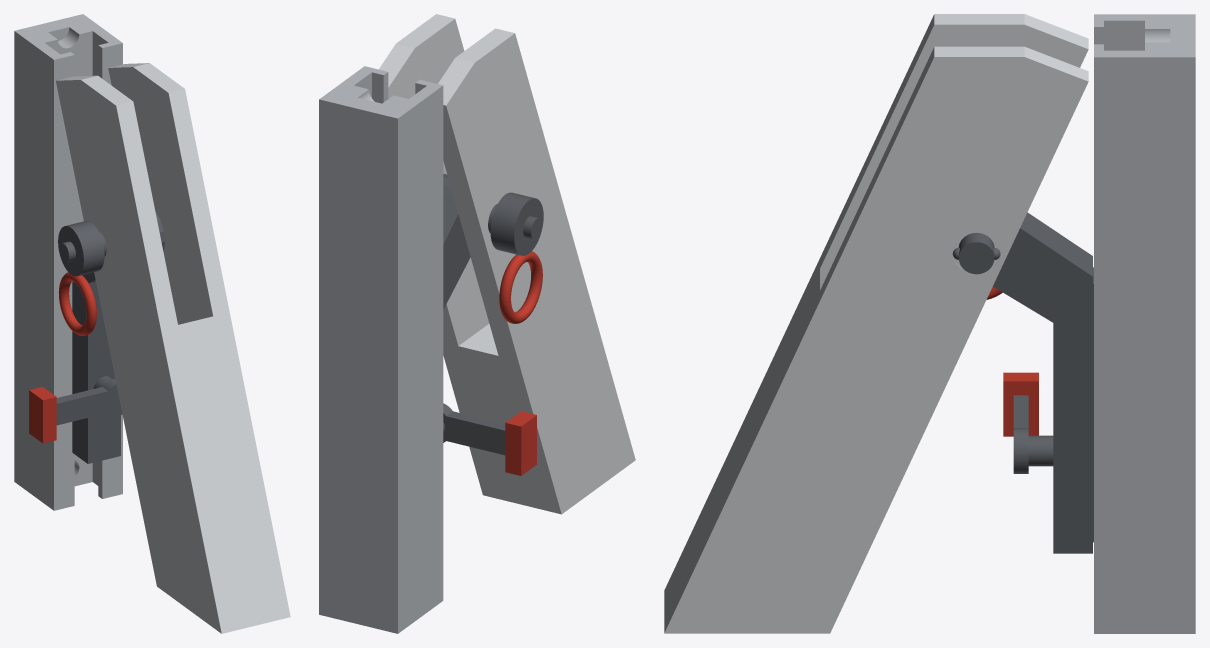
The model's file is b_detail_shelf.glb.
The picture shows the model from 3 angles, left to right: view 1: azimuth 30°, elevation 25°; view 2: azimuth 150°, elevation 25°; view 3: azimuth 270°, elevation 25°; orthographic projection. The views are drawn at different scales.
Parts seen in each view (by area): view 1: panel_rail, ring_upright, link_captive_shoe, quick_release_pin, link_spring_pin, pin_tab, pin_pull_ring; view 2: ring_upright, panel_rail, quick_release_pin, link_captive_shoe, link_spring_pin, pin_tab, pin_pull_ring; view 3: panel_rail, ring_upright, link_captive_shoe, link_spring_pin, pin_tab, quick_release_pin.
Part boxes in pixels (bbox=[...]): panel_rail: bbox=[56, 63, 290, 633]; ring_upright: bbox=[14, 14, 122, 510]; link_captive_shoe: bbox=[72, 211, 164, 463]; quick_release_pin: bbox=[58, 221, 106, 276]; link_spring_pin: bbox=[56, 376, 122, 425]; pin_tab: bbox=[29, 386, 56, 443]; pin_pull_ring: bbox=[58, 272, 96, 335]; ring_upright: bbox=[319, 66, 443, 633]; panel_rail: bbox=[379, 14, 635, 514]; quick_release_pin: bbox=[488, 192, 543, 255]; link_captive_shoe: bbox=[443, 173, 470, 309]; link_spring_pin: bbox=[443, 403, 505, 455]; pin_tab: bbox=[505, 411, 536, 475]; pin_pull_ring: bbox=[499, 251, 542, 323]; panel_rail: bbox=[664, 14, 1088, 633]; ring_upright: bbox=[1094, 14, 1195, 633]; link_captive_shoe: bbox=[993, 212, 1093, 553]; link_spring_pin: bbox=[1013, 395, 1053, 473]; pin_tab: bbox=[1003, 372, 1038, 436]; quick_release_pin: bbox=[952, 232, 1000, 274].
Size of the model in its own units: 0.0374 by 0.125 by 0.1044.
